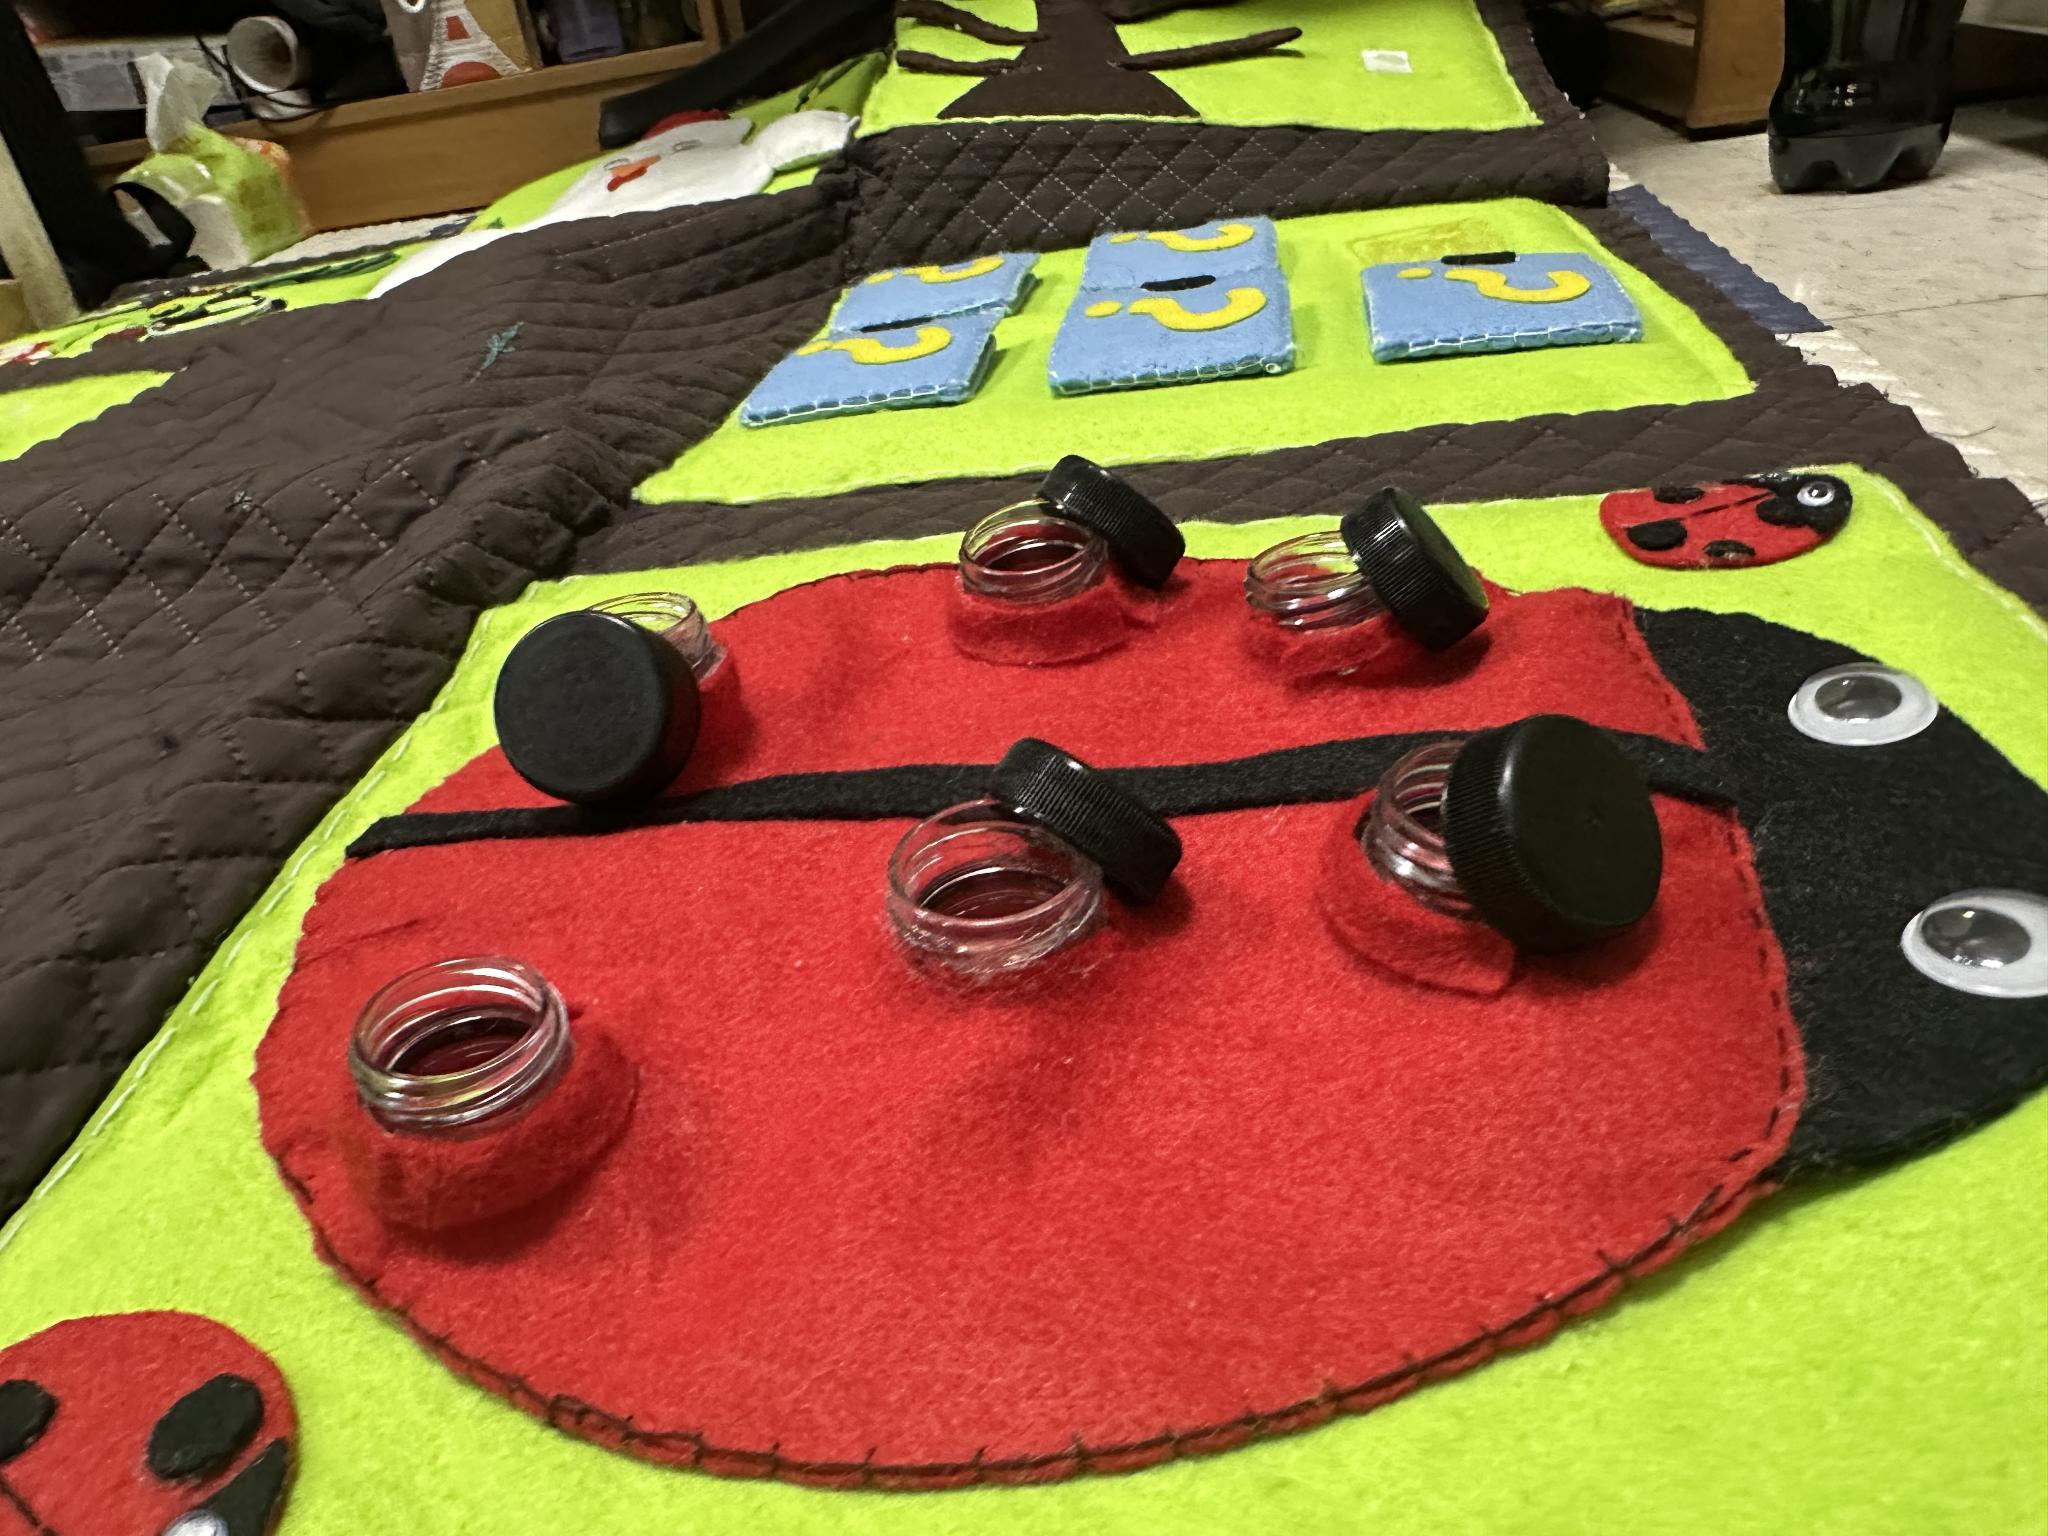cap_ng: (1338, 689, 1677, 1008), (855, 712, 1190, 1020), (1229, 482, 1511, 697), (495, 574, 742, 820), (932, 455, 1193, 658)
